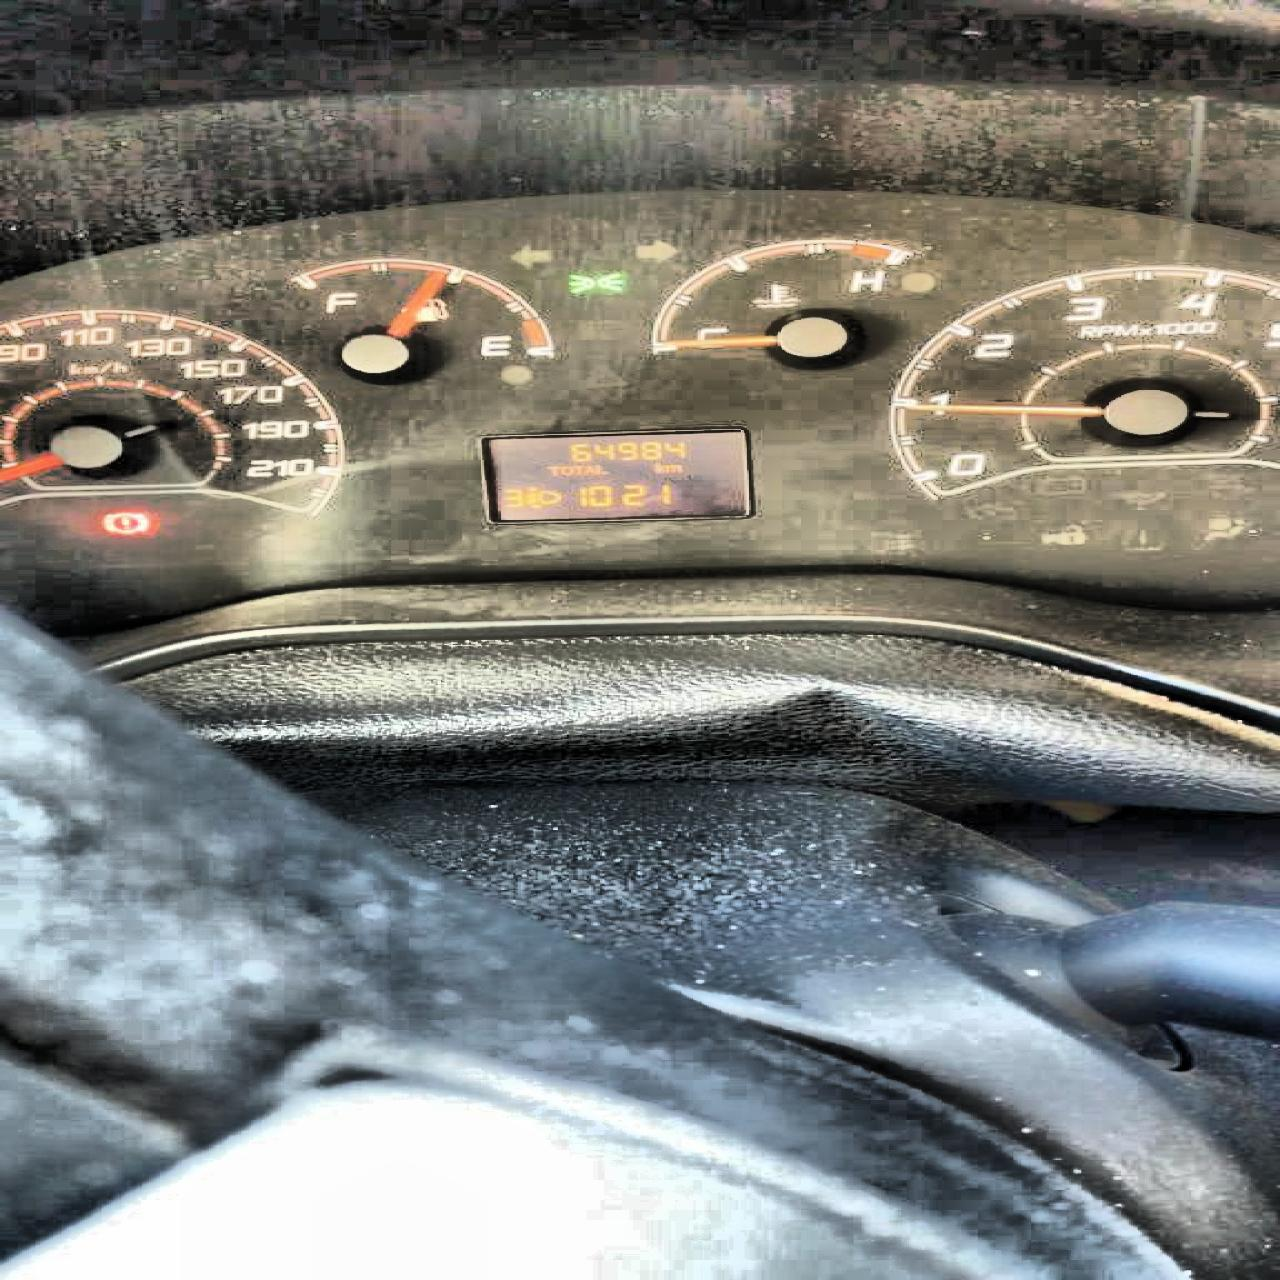0: (587, 484, 611, 506)
1: (658, 483, 672, 504), (576, 486, 586, 506)
2: (618, 483, 645, 505)
3: (501, 488, 522, 506)
4: (662, 441, 685, 458), (591, 442, 613, 459)
6: (568, 443, 588, 462)
8: (638, 440, 660, 459)
9: (615, 441, 638, 459)
X: (662, 463, 682, 472), (558, 465, 573, 475), (652, 462, 665, 472), (593, 464, 605, 475), (573, 464, 585, 474), (546, 465, 558, 475), (583, 465, 593, 474)
odometer: (474, 425, 754, 526)
